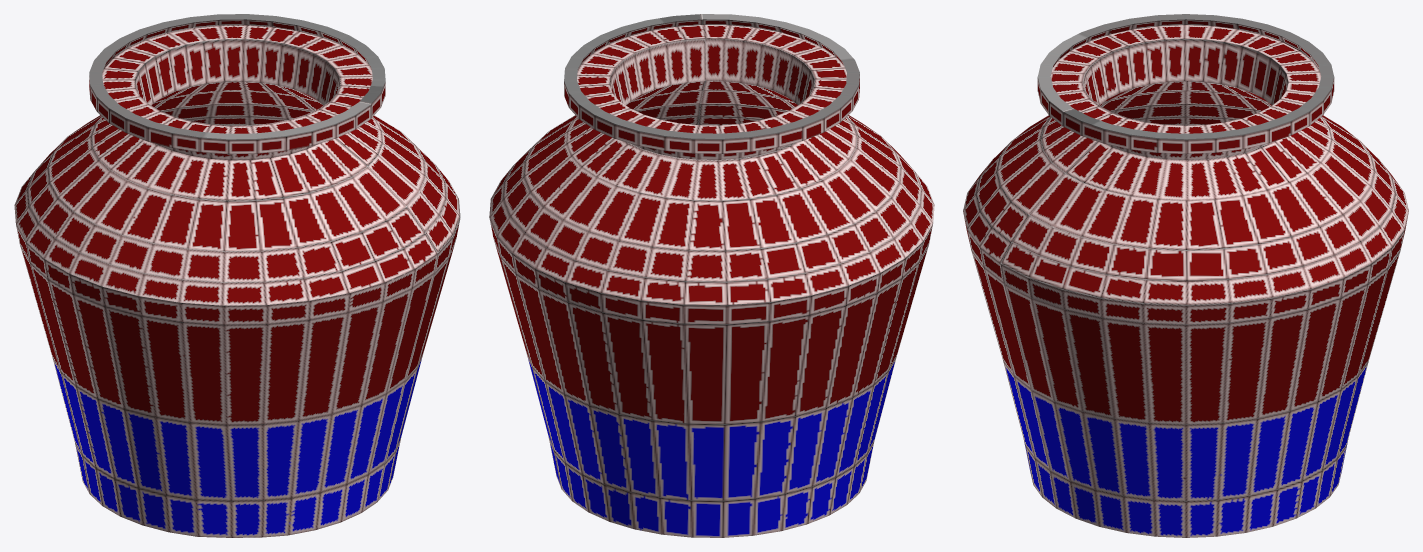
Rendered from medium_water.obj.
3 renders of one model, left to right at view 1: azimuth 30°, elevation 25°; view 2: azimuth 150°, elevation 25°; view 3: azimuth 270°, elevation 25°, orthographic.
Parts seen in each view (by area): view 1: Circle; view 2: Circle; view 3: Circle.
Boxes of the visible parts, x1=… form: Circle: x1=14, y1=14, x2=460, y2=537; Circle: x1=489, y1=14, x2=934, y2=537; Circle: x1=963, y1=14, x2=1408, y2=537.
Bounding box in the file's own units: 2.86 × 2.8 × 2.86.
